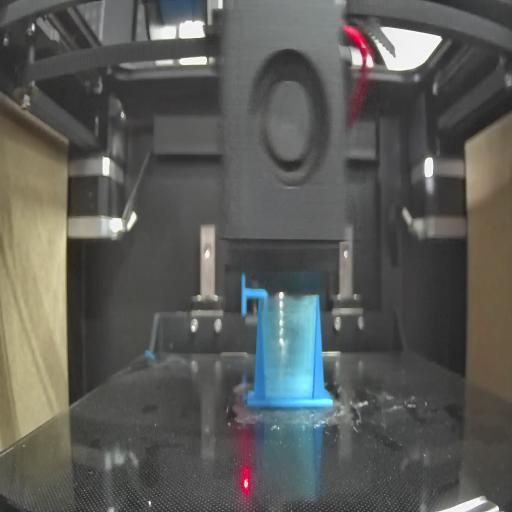stringing: (262, 298, 318, 397)
